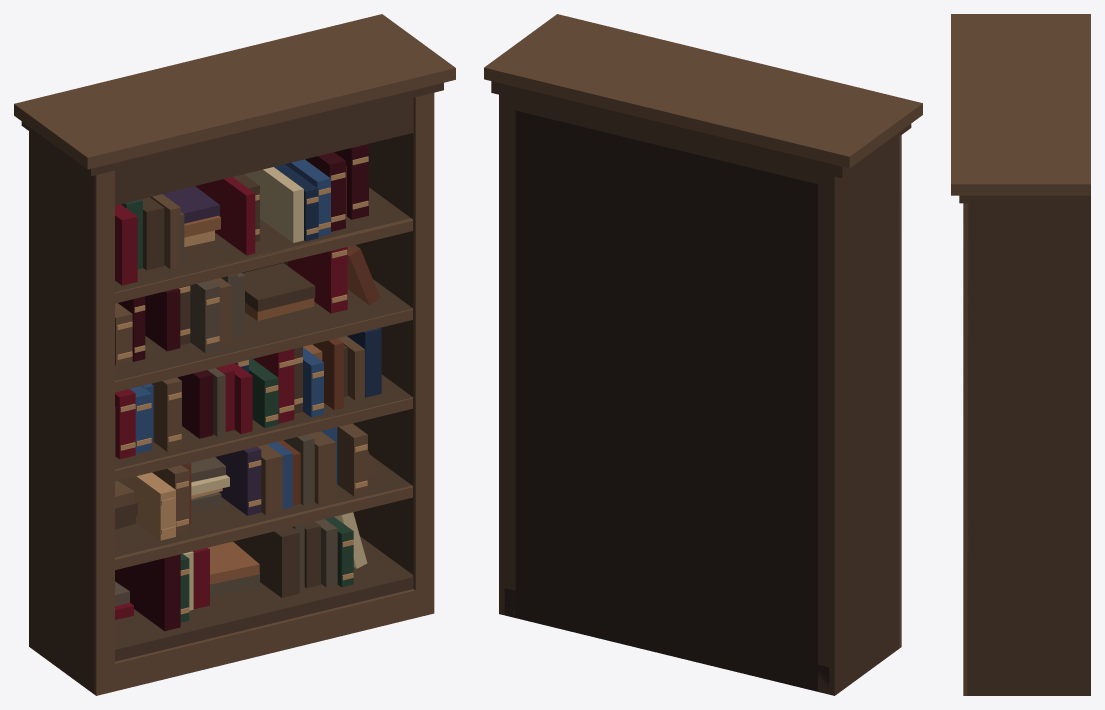
File: bookcase.glb
3 views of the same model, side by side, from view 1: azimuth 30°, elevation 25°; view 2: azimuth 150°, elevation 25°; view 3: azimuth 270°, elevation 25° (orthographic). The views are drawn at different scales.
Visible parts, largest first — view 1: bookcase; view 2: bookcase; view 3: bookcase.
Part boxes in pixels (x1,y1,x2,y2): bookcase: (14, 14, 455, 695); bookcase: (484, 14, 922, 695); bookcase: (951, 14, 1090, 695).
Size of the model in its own units: 0.98 by 1.39 by 0.34.
